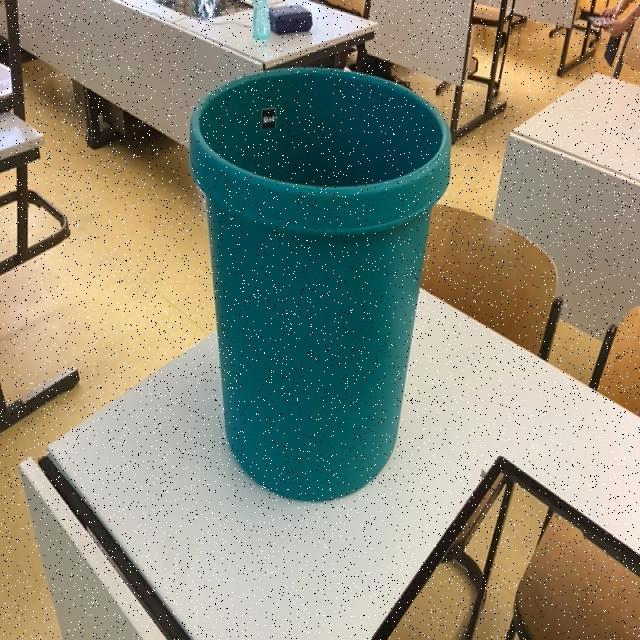garbage container: (190, 52, 467, 517)
